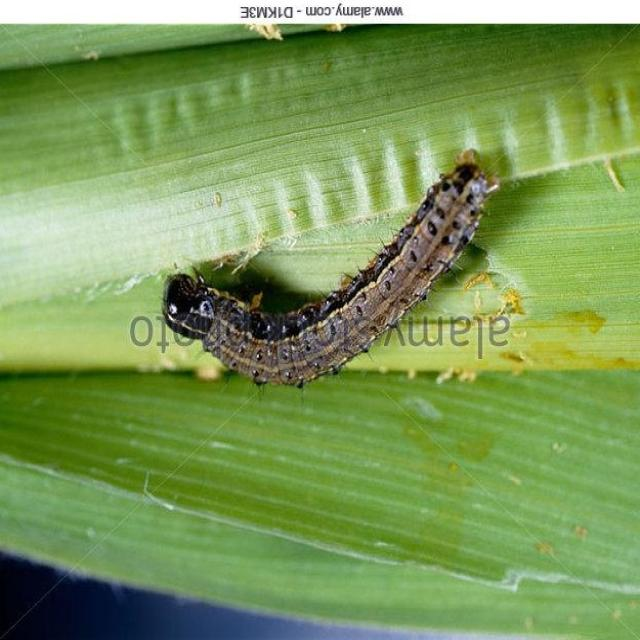army worm: (157, 151, 500, 395)
